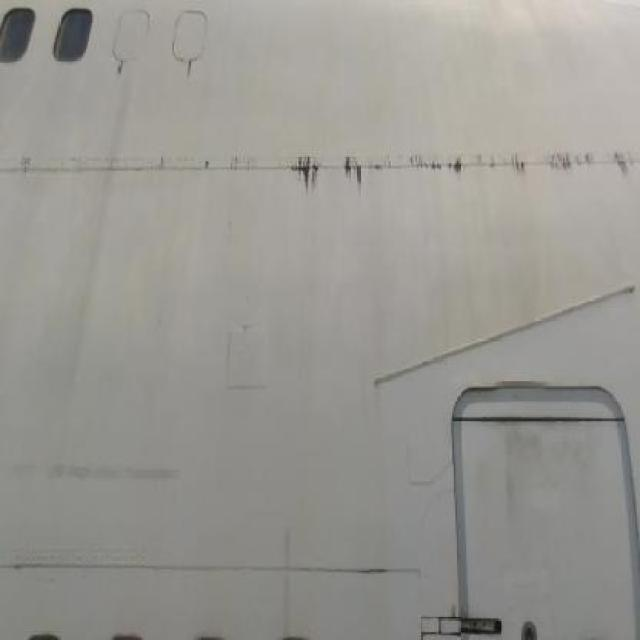Rust: (281, 138, 640, 218), (115, 60, 128, 92), (182, 62, 195, 86)
Scartch: (8, 440, 202, 514), (493, 426, 613, 522)
